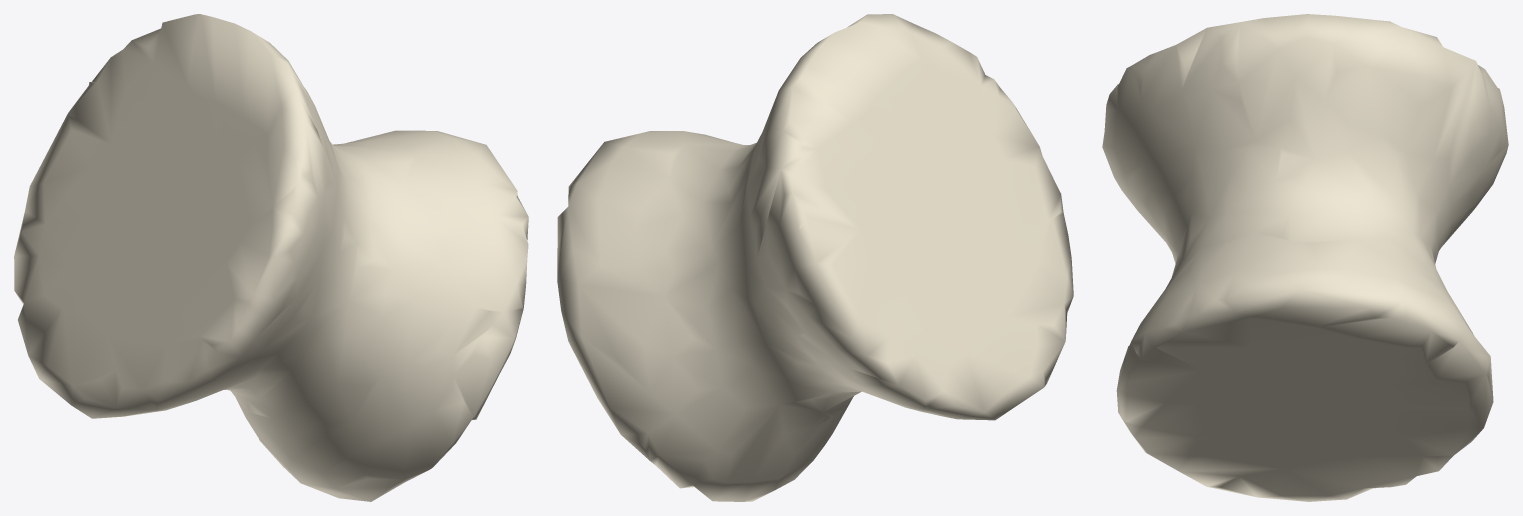
Rendered from caudal_2.glb.
The picture shows the model from 3 angles, left to right: view 1: azimuth 30°, elevation 25°; view 2: azimuth 150°, elevation 25°; view 3: azimuth 270°, elevation 25°; orthographic projection. The views are drawn at different scales.
Visible parts, largest first — view 1: geometry_0; view 2: geometry_0; view 3: geometry_0.
Part boxes in pixels (x1=…): geometry_0: x1=14, y1=14, x2=528, y2=501; geometry_0: x1=557, y1=14, x2=1073, y2=501; geometry_0: x1=1102, y1=14, x2=1508, y2=501.
Bounding box in the file's own units: 0.0777 × 0.0815 × 0.0653.
